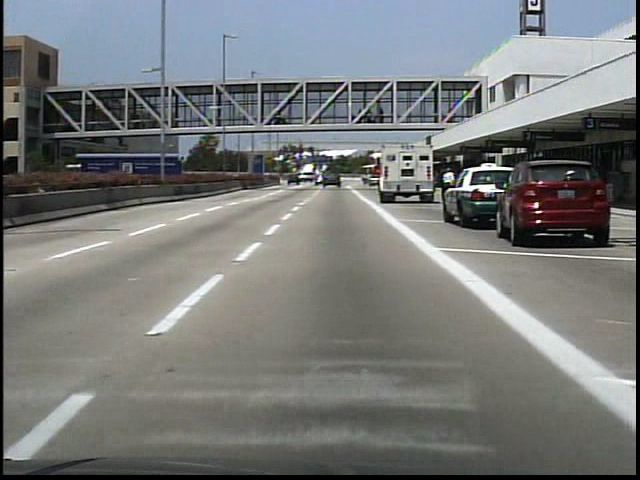person: (441, 168, 457, 209)
